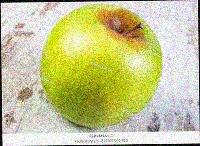rotten apple: (35, 2, 165, 130)
